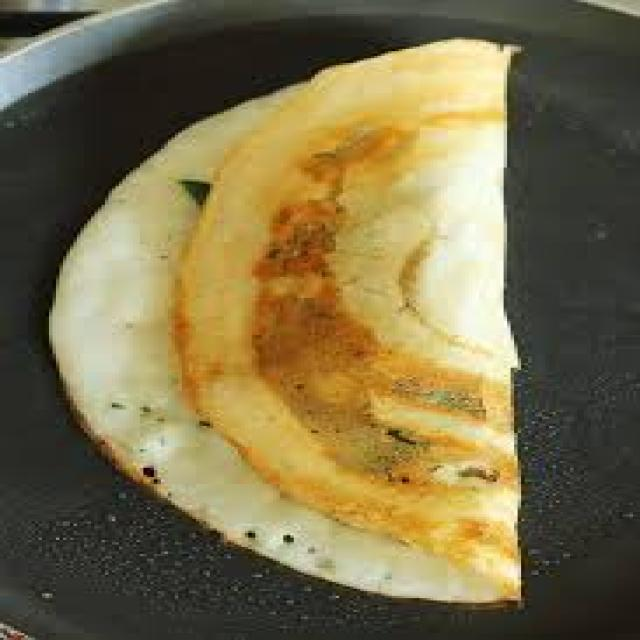DOSA: (46, 44, 521, 609)
